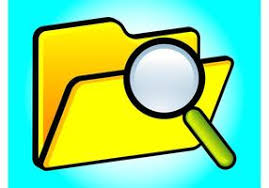searchIcon: (123, 38, 237, 169)
